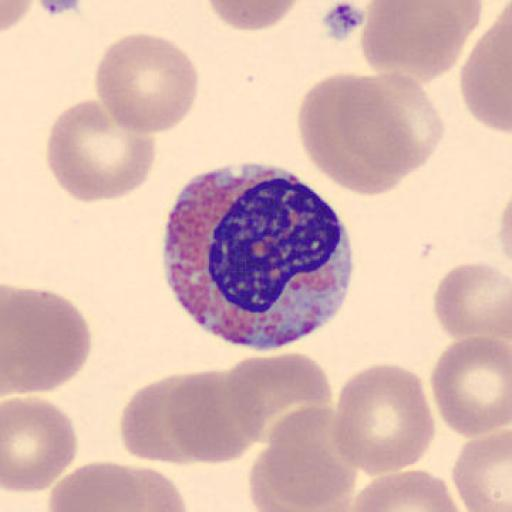RBC: (295, 69, 433, 199), (222, 351, 333, 463), (331, 361, 436, 477), (248, 404, 359, 511), (46, 97, 156, 203), (94, 31, 200, 135), (358, 0, 483, 83), (168, 366, 267, 466), (3, 286, 92, 394), (429, 333, 512, 438), (432, 260, 512, 368), (118, 372, 202, 466), (2, 395, 78, 494), (46, 460, 188, 512), (248, 443, 352, 512), (459, 3, 512, 137), (347, 468, 467, 512), (46, 460, 146, 512), (451, 428, 512, 511), (90, 462, 188, 512), (203, 0, 304, 32), (1, 0, 35, 35)
WBC: (162, 158, 353, 351)
